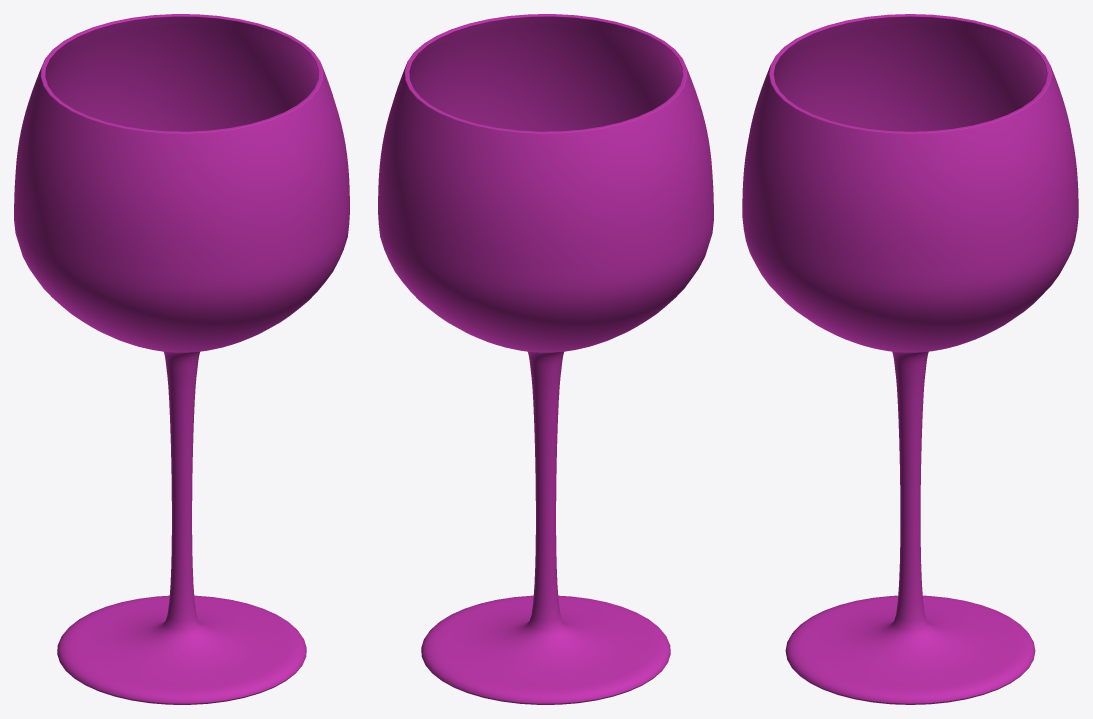
File: WineGlass.fbx
3 views of the same model, side by side, from view 1: azimuth 30°, elevation 25°; view 2: azimuth 150°, elevation 25°; view 3: azimuth 270°, elevation 25° (orthographic).
Visible parts, largest first — view 1: WineGlasses; view 2: WineGlasses; view 3: WineGlasses.
Boxes of the visible parts, left/top/right/bottom form: WineGlasses: left=14, top=14, right=349, bottom=704; WineGlasses: left=378, top=14, right=713, bottom=704; WineGlasses: left=742, top=14, right=1078, bottom=704.
Bounding box in the file's own units: 288 × 549 × 288.
